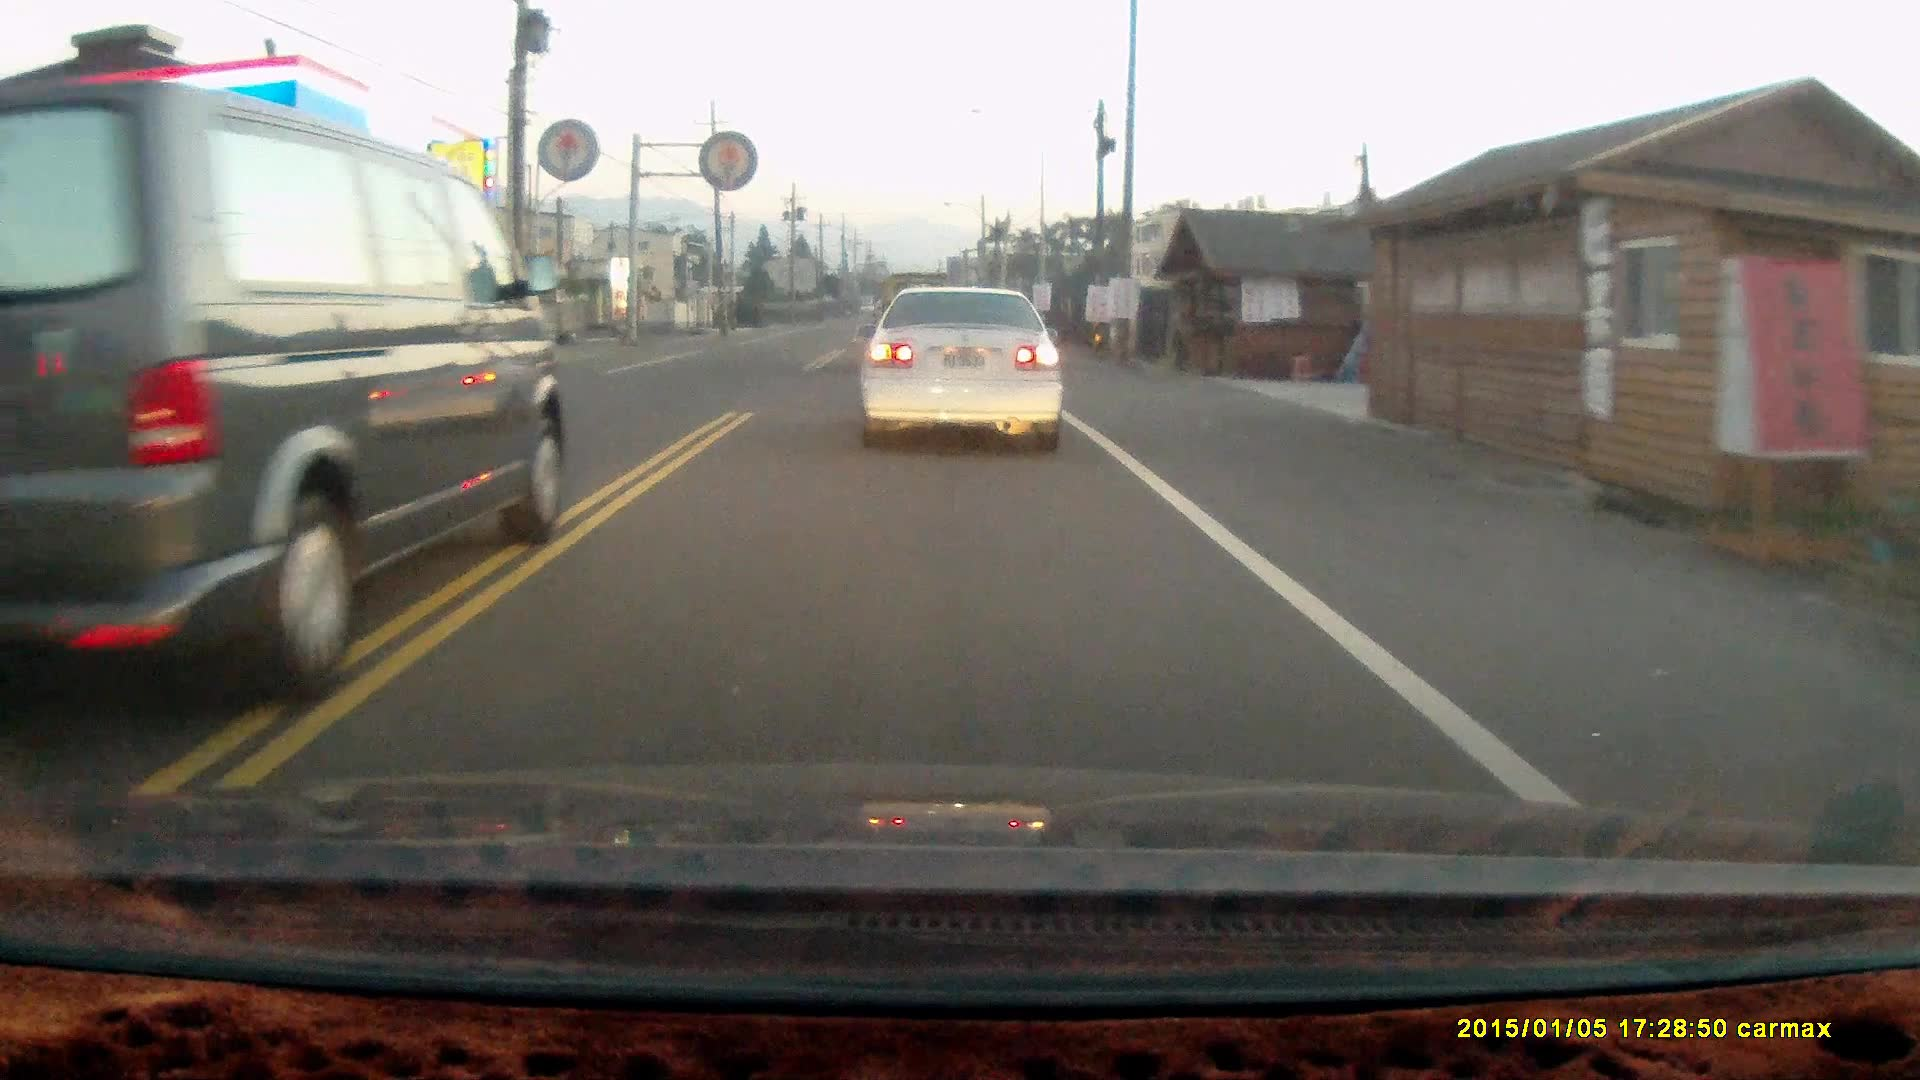vehicle: (1, 84, 571, 695), (860, 280, 1068, 456)
